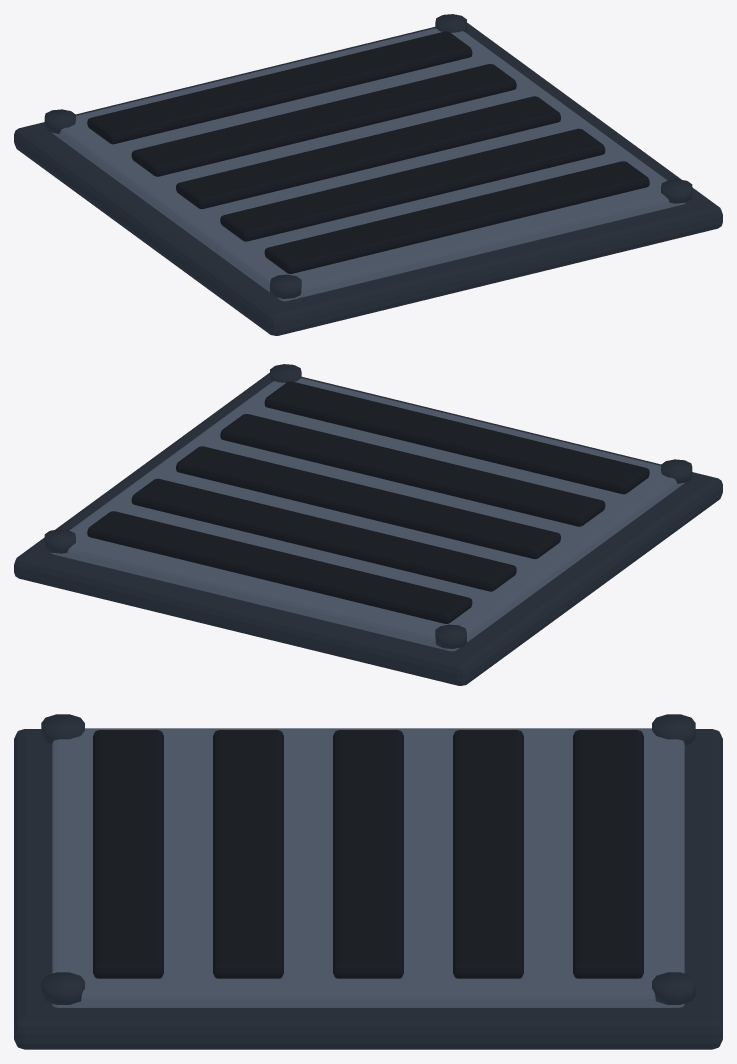
Rendered from conducto_tapa.glb.
The picture shows the model from 3 angles, top to bottom: view 1: azimuth 30°, elevation 25°; view 2: azimuth 150°, elevation 25°; view 3: azimuth 270°, elevation 25°; orthographic projection. The views are drawn at different scales.
Visible parts, largest first — view 1: Cube.027, Cube.026, Cube.030, Cube.032, Cube.029, Cube.031, Cube.028, Cylinder.015, Cylinder.017, Cylinder.016, Cylinder.018; view 2: Cube.027, Cube.026, Cube.030, Cube.028, Cube.029, Cube.031, Cube.032, Cylinder.016, Cylinder.018, Cylinder.015, Cylinder.017; view 3: Cube.027, Cube.026, Cube.028, Cube.029, Cube.030, Cube.031, Cube.032, Cylinder.017, Cylinder.018, Cylinder.015, Cylinder.016.
Part boxes in pixels (x1,y1,x2,y2): Cube.027: (52,28,685,301); Cube.026: (14,22,722,335); Cube.030: (176,96,560,209); Cube.032: (87,31,472,144); Cube.029: (220,128,605,241); Cube.031: (131,64,516,176); Cube.028: (264,161,649,273); Cylinder.015: (270,274,301,298); Cylinder.017: (661,179,692,203); Cylinder.016: (44,109,75,133); Cylinder.018: (435,14,466,32); Cube.027: (51,378,684,651); Cube.026: (14,372,722,685); Cube.030: (176,446,560,559); Cube.028: (264,381,649,494); Cube.029: (220,414,605,526); Cube.031: (131,478,516,591); Cube.032: (87,511,472,623); Cylinder.016: (435,624,466,648); Cylinder.018: (44,529,75,553); Cylinder.015: (661,459,692,483); Cylinder.017: (270,364,301,382); Cube.027: (52,728,684,1007); Cube.026: (14,729,722,1049); Cube.028: (93,730,163,978); Cube.029: (213,730,283,978); Cube.030: (333,730,403,978); Cube.031: (453,730,523,978); Cube.032: (573,730,643,978); Cylinder.017: (41,972,84,1004); Cylinder.018: (652,972,695,1004); Cylinder.015: (41,714,84,745); Cylinder.016: (652,714,695,745).
Size of the model in its own units: 1.3 by 0.115 by 1.3.
